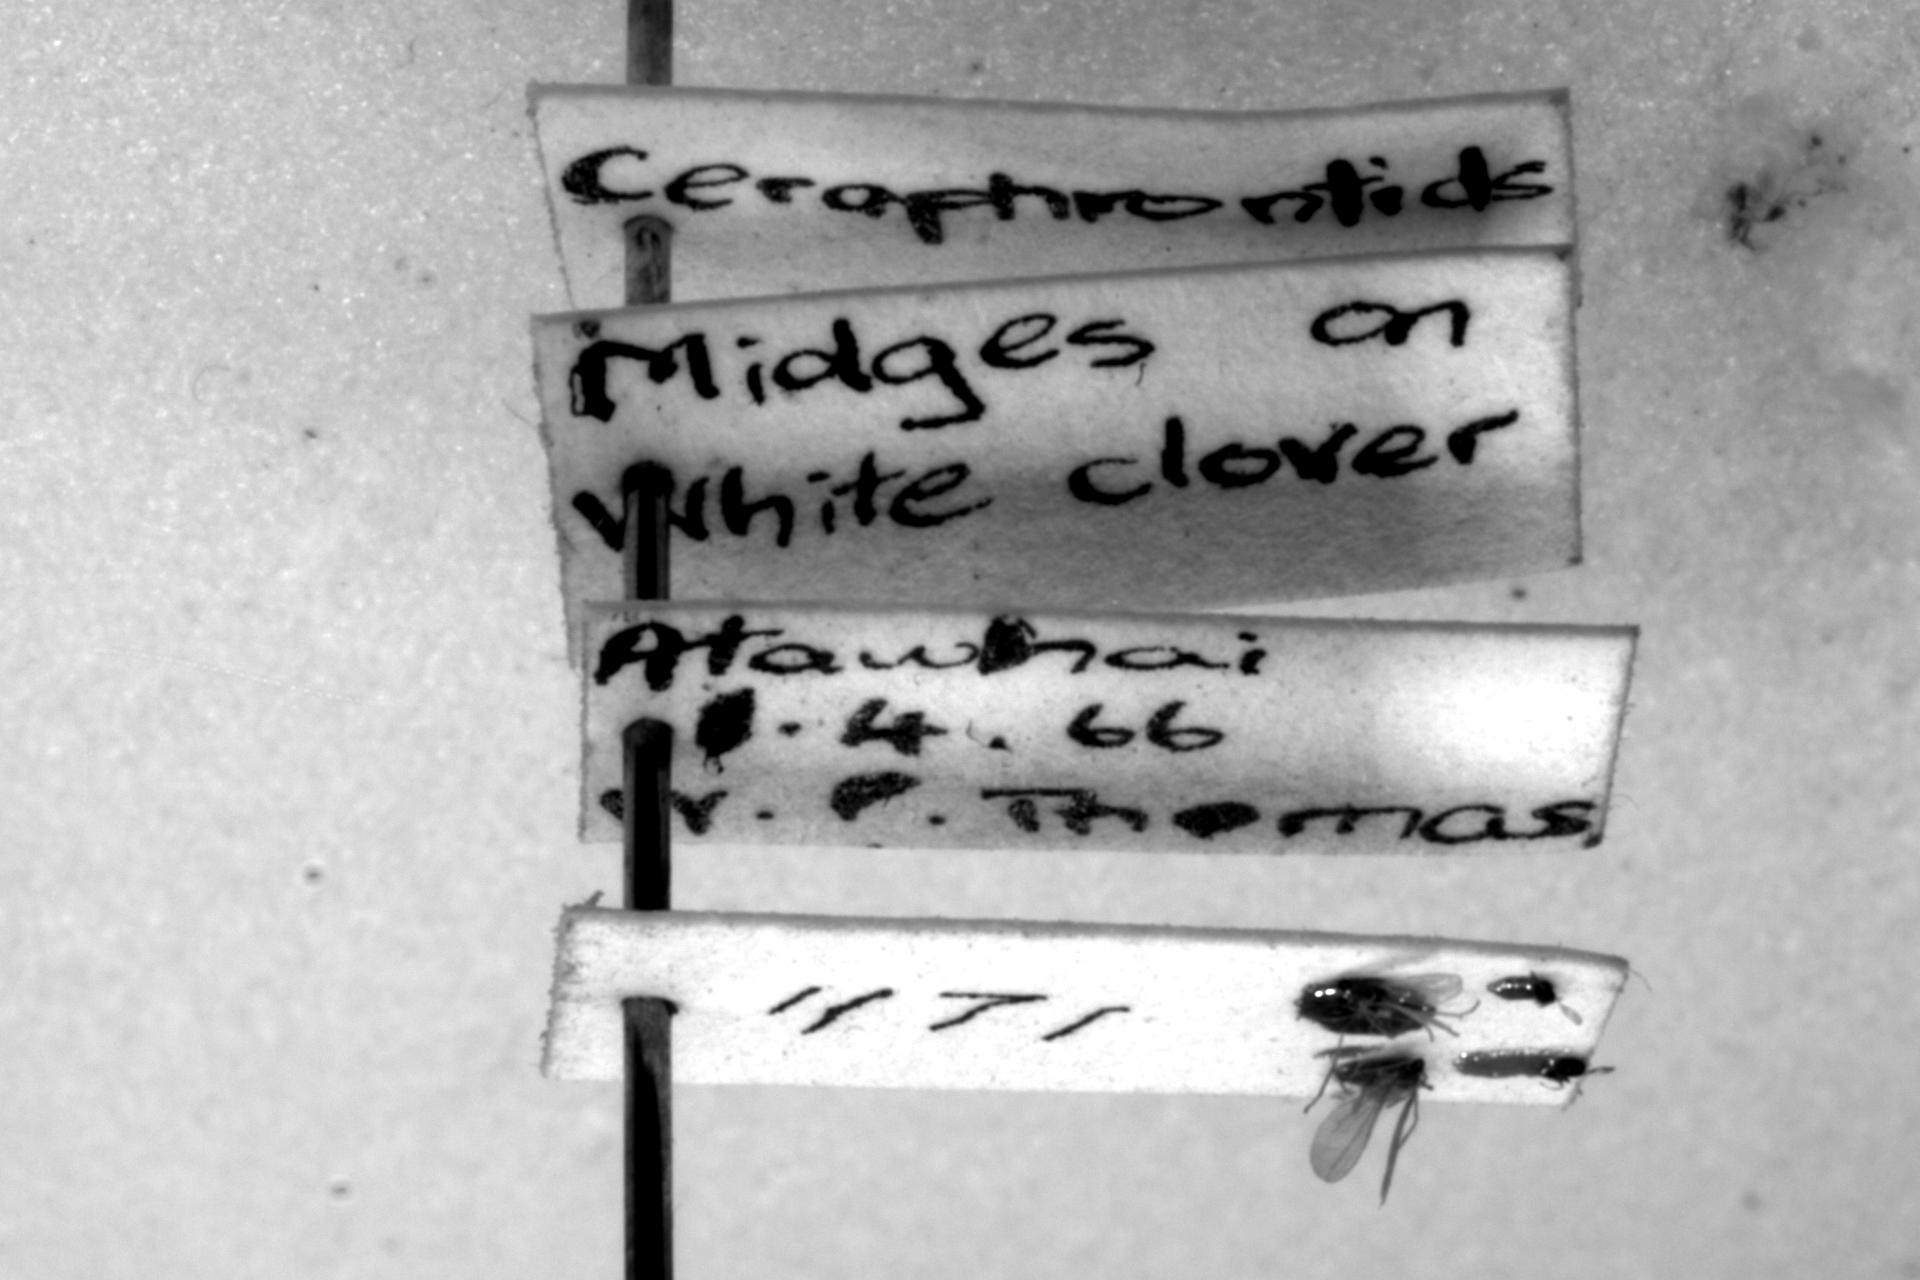hand_label: (532, 251, 1579, 660), (581, 604, 1635, 851), (529, 86, 1575, 308)
